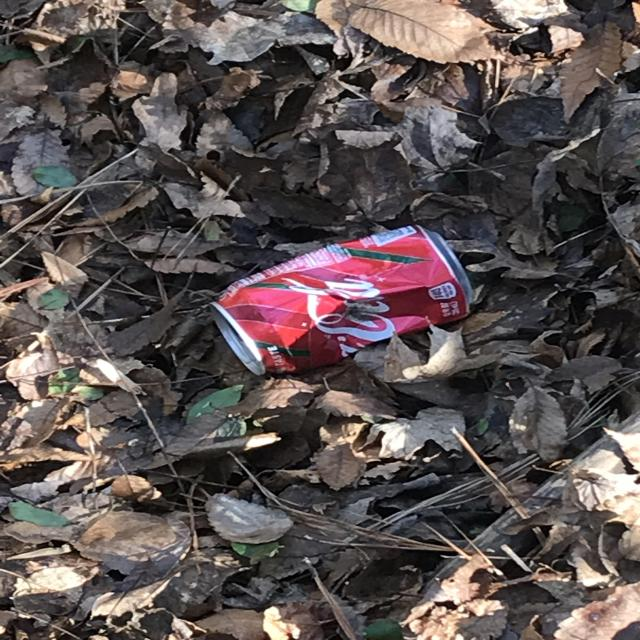litter: (295, 123, 501, 323)
